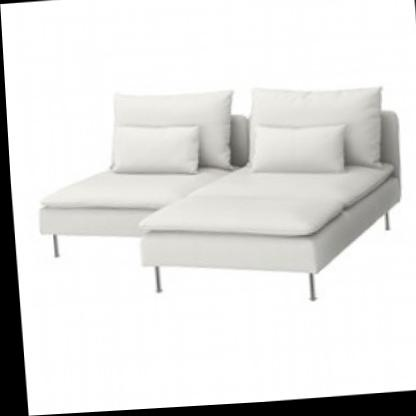Sofa: (21, 55, 408, 330)
